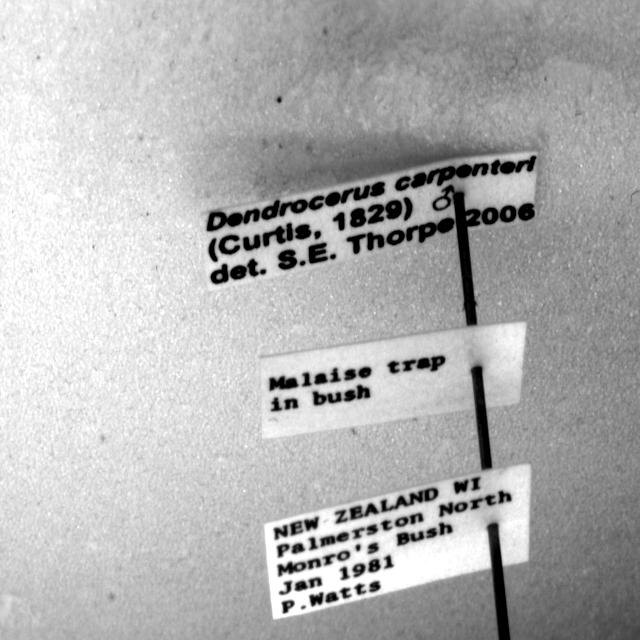typed_label: (204, 152, 536, 291), (265, 465, 531, 619), (261, 322, 526, 439)
